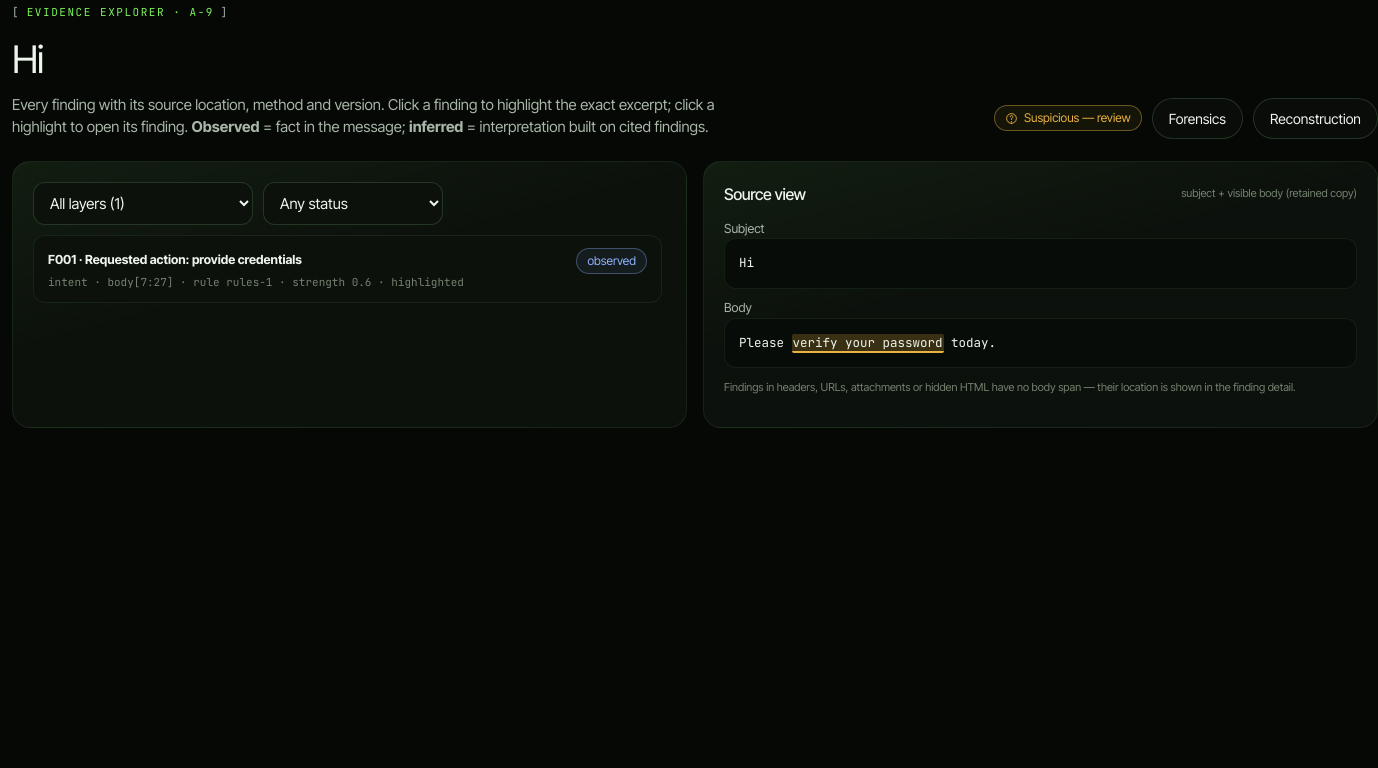
Evidence explorer › links findings to highlighted source spans
Click the text "verify your password": (868, 343) [792, 334, 944, 353]
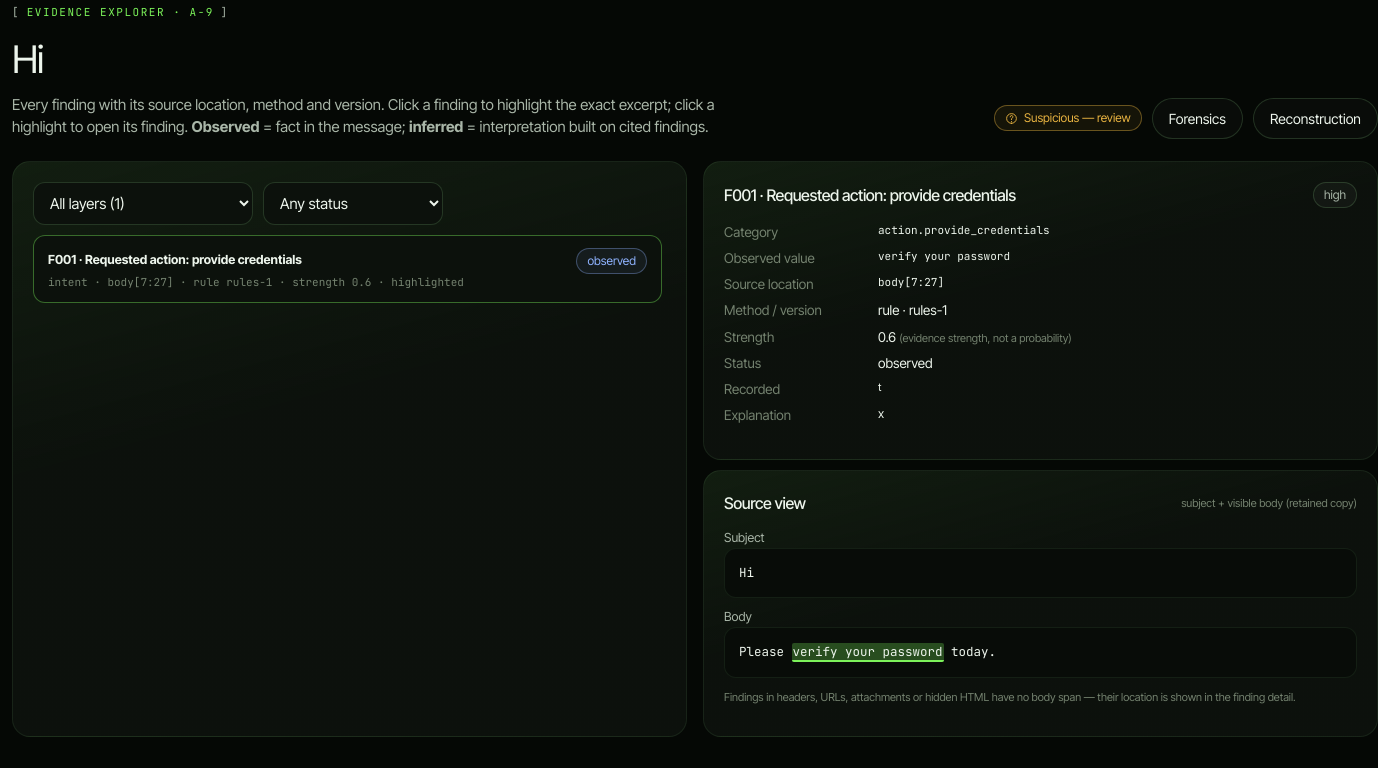
Result: the text "(evidence strength, not a probability)" is shown at [899, 330, 1072, 344]
